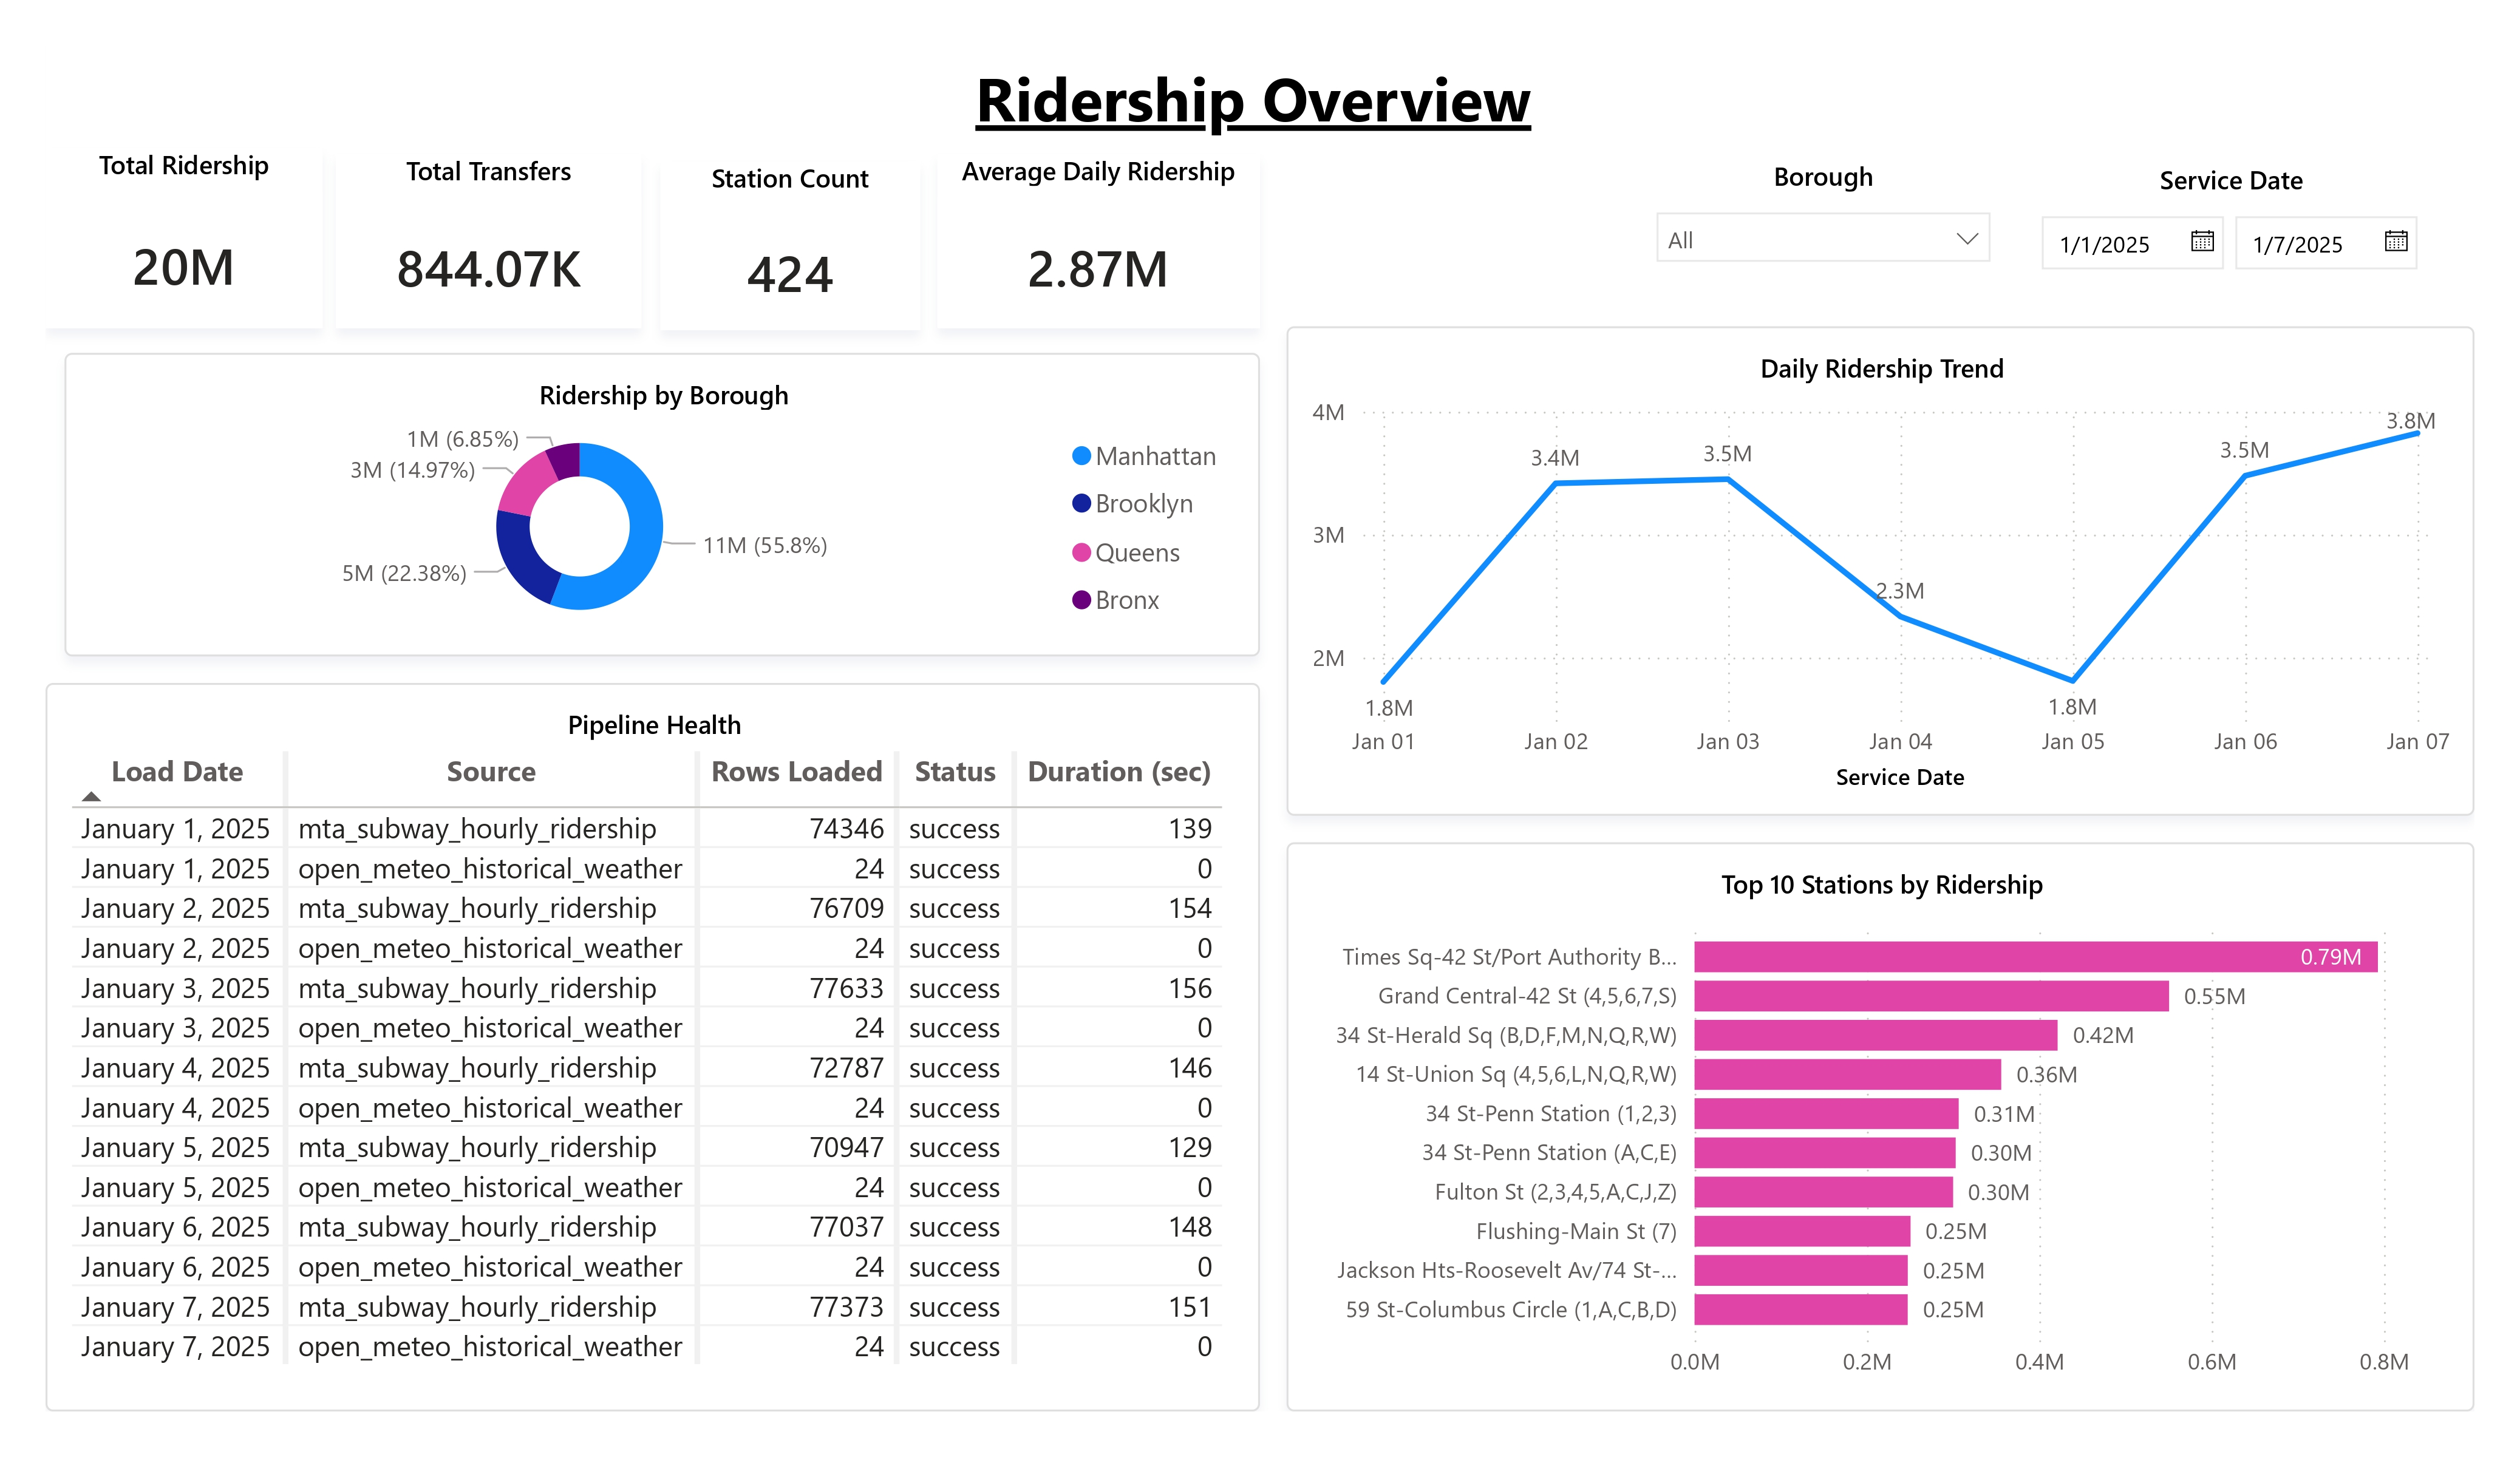

This screenshot's page, from the dashboard's own definition file:
{"tool":"powerbi","page":{"name":"Ridership Overview","canvas":[1280,720],"ordinal":0},"visuals":[{"type":"textbox","box":[485,0,310,57.5],"z":0},{"type":"cardVisual","title":"Total Ridership","fields":{"Data":["daily_station_ridership.Total Ridership"]},"box":[0,54.3,145.7,94.3],"z":1000},{"type":"cardVisual","title":"Total Transfers","fields":{"Data":["daily_station_ridership.Total Transfers"]},"box":[152.9,57.1,161.4,91.4],"z":2000},{"type":"lineChart","title":"Daily Ridership Trend","fields":{"Y":["daily_station_ridership.Total Ridership"],"Category":["daily_station_ridership.service_date"]},"box":[654,148,626,258],"z":3000},{"type":"barChart","title":"Top 10 Stations by Ridership","fields":{"Category":["daily_station_ridership.station_complex"],"Y":["daily_station_ridership.Total Ridership"]},"box":[654,420,626,300],"z":4000},{"type":"tableEx","title":"Pipeline Health","fields":{"Values":["pipeline_health_summary.load_date","pipeline_health_summary.source_name","pipeline_health_summary.rows_loaded","pipeline_health_summary.status","pipeline_health_summary.duration_seconds"]},"box":[0,336,640,384],"z":5000},{"type":"cardVisual","title":"Station Count","fields":{"Data":["daily_station_ridership.Station Count"]},"box":[324.3,61.4,137.1,88.6],"z":6000},{"type":"cardVisual","title":"Average Daily Ridership","fields":{"Data":["daily_station_ridership.Average Daily Ridership"]},"box":[470,57.1,170,91.4],"z":7000},{"type":"donutChart","title":"Ridership by Borough","fields":{"Category":["daily_station_ridership.borough"],"Y":["daily_station_ridership.Total Ridership"]},"box":[10,162,630,160],"z":8000},{"type":"slicer","title":"Borough","fields":{"Values":["daily_station_ridership.borough"]},"box":[844,60,186,74],"z":9000},{"type":"slicer","title":"Service Date","fields":{"Values":["daily_station_ridership.service_date"]},"box":[1044,62,216,72],"z":10000}]}

Visuals, with their boxes on the page's 1280x720 design canvas (x1, y1, x2, y2). These are canvas units, not pixel positions in the 2520x1457 screenshot, which may show the page scaled, cropped or inside an application window:
textbox: rect(485, 0, 795, 58)
"Total Ridership" cardVisual: rect(0, 54, 146, 149)
"Total Transfers" cardVisual: rect(153, 57, 314, 148)
"Daily Ridership Trend" lineChart: rect(654, 148, 1280, 406)
"Top 10 Stations by Ridership" barChart: rect(654, 420, 1280, 720)
"Pipeline Health" tableEx: rect(0, 336, 640, 720)
"Station Count" cardVisual: rect(324, 61, 461, 150)
"Average Daily Ridership" cardVisual: rect(470, 57, 640, 148)
"Ridership by Borough" donutChart: rect(10, 162, 640, 322)
"Borough" slicer: rect(844, 60, 1030, 134)
"Service Date" slicer: rect(1044, 62, 1260, 134)
